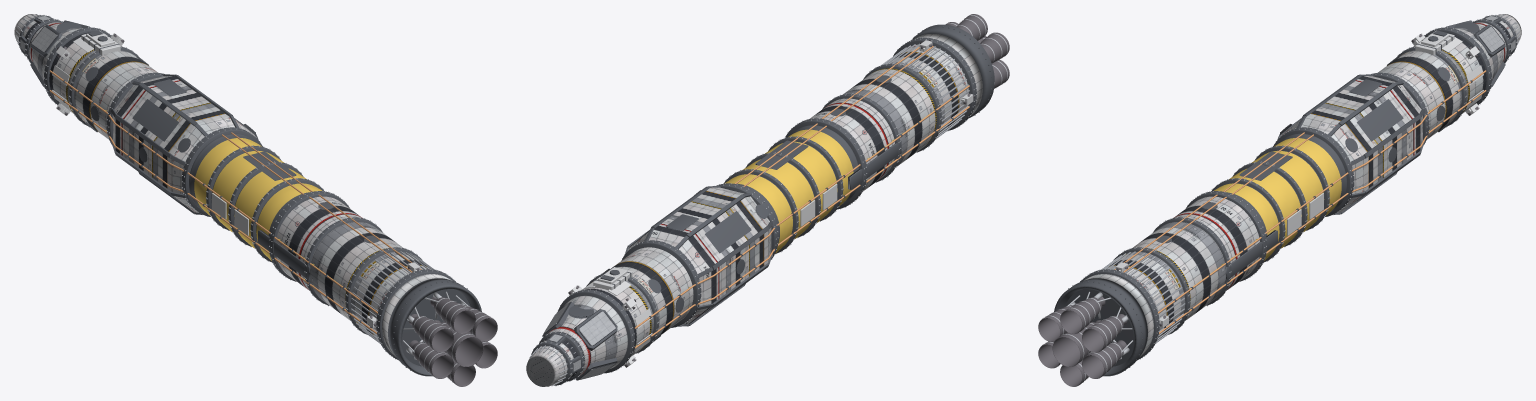
File: dd84_destroyer_bare.glb
3 renders of one model, left to right at view 1: azimuth 30°, elevation 25°; view 2: azimuth 150°, elevation 25°; view 3: azimuth 330°, elevation 25°, orthographic.
Visible parts, largest first — view 1: Hull_Aft_Propulsion_Bus, Hull_Structural_Flange_Rings, Hull_Mid_Octagonal_Citadel, Drive_7x_Engine_Nozzles, Hull_Forward_Bus, Hull_Reactor_Gold_MLI_Blankets, DD84_Hardpoint_Mounting_Pads, Drive_Thrust_Bulkhead_Skirt, Hull_External_Copper_Coolant_Pipes, Hull_Citadel_Armor_Strakes, Hull_Longitudinal_Stringers, Hull_Flange_Hex_Bolts (+7 smaller); view 2: Hull_Aft_Propulsion_Bus, Hull_Structural_Flange_Rings, Hull_Forward_Bus, Hull_Mid_Octagonal_Citadel, Hull_Reactor_Gold_MLI_Blankets, DD84_Hardpoint_Mounting_Pads, Hull_External_Copper_Coolant_Pipes, Hull_Citadel_Armor_Strakes, Hull_Longitudinal_Stringers, Drive_Thrust_Bulkhead_Skirt, Drive_7x_Engine_Nozzles, Hull_Flange_Hex_Bolts (+6 smaller); view 3: Hull_Aft_Propulsion_Bus, Hull_Structural_Flange_Rings, Hull_Mid_Octagonal_Citadel, Drive_7x_Engine_Nozzles, Hull_Forward_Bus, Hull_Reactor_Gold_MLI_Blankets, DD84_Hardpoint_Mounting_Pads, Drive_Thrust_Bulkhead_Skirt, Hull_External_Copper_Coolant_Pipes, Hull_Citadel_Armor_Strakes, Hull_Longitudinal_Stringers, Hull_Flange_Hex_Bolts (+7 smaller).
Part boxes in pixels (x1,y1,x2,y2): Hull_Aft_Propulsion_Bus: (276, 196, 451, 356); Hull_Structural_Flange_Rings: (19, 15, 455, 359); Hull_Mid_Octagonal_Citadel: (113, 76, 255, 212); Drive_7x_Engine_Nozzles: (408, 296, 497, 386); Hull_Forward_Bus: (14, 14, 157, 139); Hull_Reactor_Gold_MLI_Blankets: (194, 138, 321, 260); DD84_Hardpoint_Mounting_Pads: (56, 22, 379, 279); Drive_Thrust_Bulkhead_Skirt: (388, 278, 481, 376); Hull_External_Copper_Coolant_Pipes: (49, 70, 421, 333); Hull_Citadel_Armor_Strakes: (110, 74, 258, 214); Hull_Longitudinal_Stringers: (15, 14, 434, 343); Hull_Flange_Hex_Bolts: (18, 15, 455, 359); Hull_Aft_Propulsion_Bus: (810, 34, 982, 190); Hull_Structural_Flange_Rings: (531, 37, 976, 385); Hull_Forward_Bus: (526, 247, 693, 386); Hull_Mid_Octagonal_Citadel: (628, 187, 771, 324); Hull_Reactor_Gold_MLI_Blankets: (724, 129, 853, 253); DD84_Hardpoint_Mounting_Pads: (568, 75, 901, 342); Hull_External_Copper_Coolant_Pipes: (634, 46, 969, 348); Hull_Citadel_Armor_Strakes: (625, 186, 772, 326); Hull_Longitudinal_Stringers: (529, 43, 969, 386); Drive_Thrust_Bulkhead_Skirt: (912, 24, 994, 118); Drive_7x_Engine_Nozzles: (946, 14, 1009, 88); Hull_Flange_Hex_Bolts: (531, 37, 976, 385); Hull_Aft_Propulsion_Bus: (1084, 196, 1259, 356); Hull_Structural_Flange_Rings: (1080, 15, 1516, 360); Hull_Mid_Octagonal_Citadel: (1280, 76, 1422, 212); Drive_7x_Engine_Nozzles: (1038, 296, 1127, 386); Hull_Forward_Bus: (1378, 14, 1521, 139); Hull_Reactor_Gold_MLI_Blankets: (1214, 138, 1341, 260); DD84_Hardpoint_Mounting_Pads: (1156, 22, 1479, 279); Drive_Thrust_Bulkhead_Skirt: (1054, 278, 1147, 376); Hull_External_Copper_Coolant_Pipes: (1114, 70, 1486, 334); Hull_Citadel_Armor_Strakes: (1277, 74, 1425, 214); Hull_Longitudinal_Stringers: (1101, 14, 1520, 343); Hull_Flange_Hex_Bolts: (1080, 15, 1517, 359).
Size of the model in its own units: 8.76 by 9.42 by 75.2.
11 materials, 2 textured.
